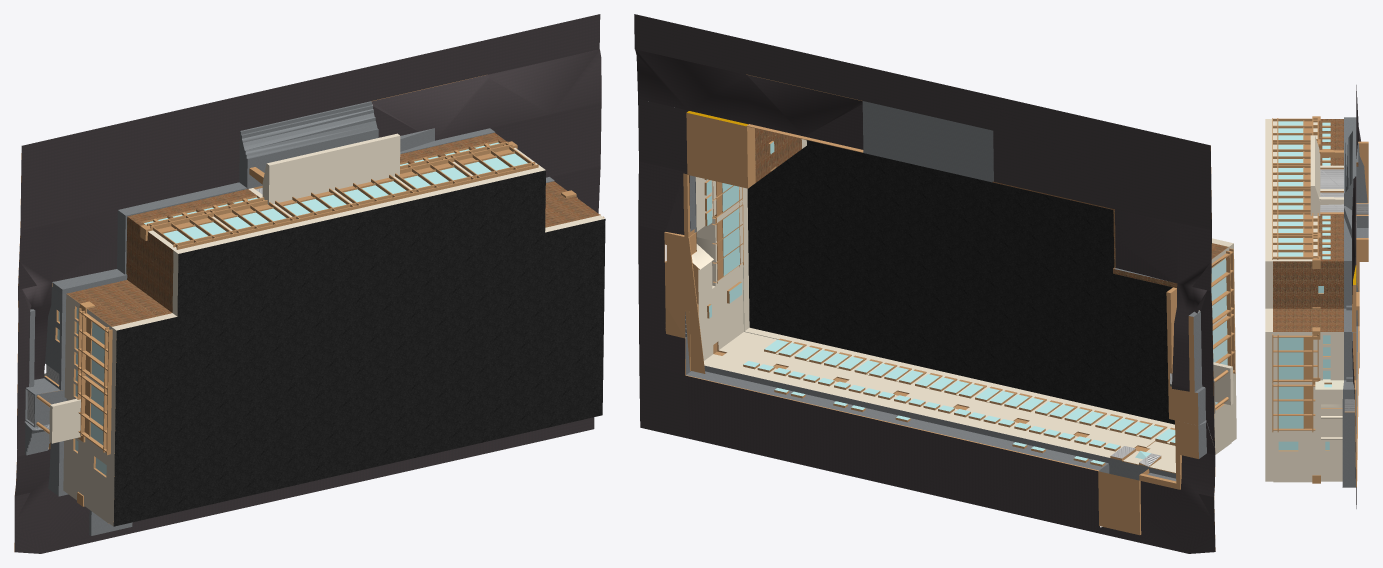
The model's file is cantina5.0.glb.
3 renders of one model, left to right at view 1: azimuth 30°, elevation 25°; view 2: azimuth 150°, elevation 25°; view 3: azimuth 270°, elevation 25°, orthographic. The views are drawn at different scales.
Parts seen in each view (by area): view 1: 3DGeom-13; view 2: 3DGeom-13; view 3: 3DGeom-13.
Part boxes in pixels (bbox=[...]): 3DGeom-13: bbox=[14, 14, 605, 553]; 3DGeom-13: bbox=[634, 14, 1236, 553]; 3DGeom-13: bbox=[1265, 85, 1368, 508].
Size of the model in its own units: 58.09 by 40.16 by 11.57.
Materials: 18 (7 with a texture image).
